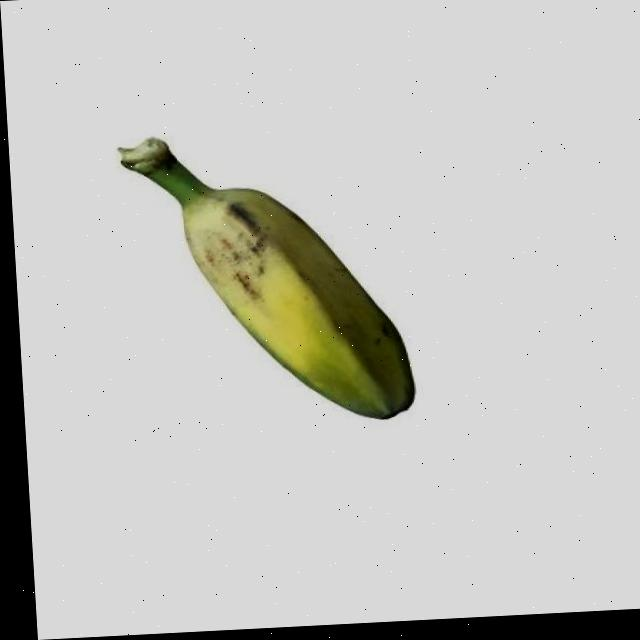banana: (169, 150, 423, 435)
